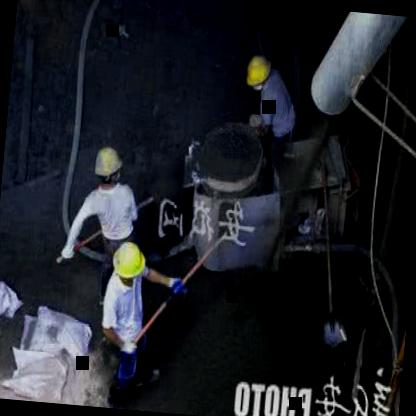helmet: (108, 238, 150, 291), (91, 140, 125, 191), (242, 53, 276, 95)
